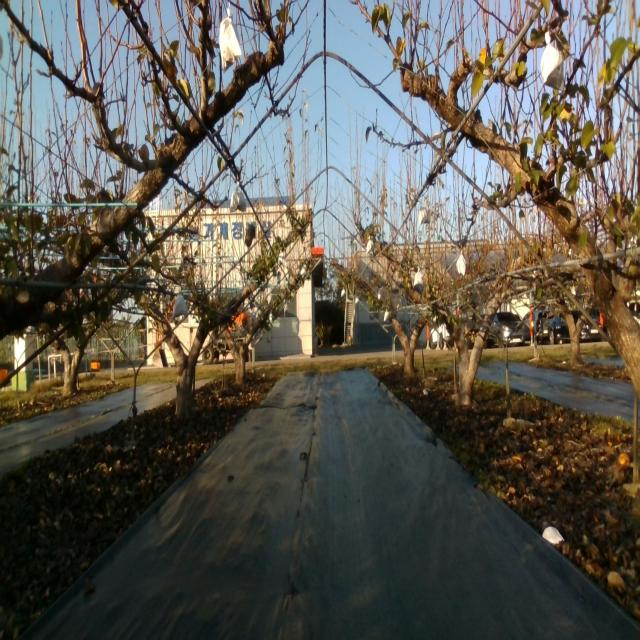pearbags: (540, 31, 565, 93), (219, 10, 243, 70), (230, 182, 247, 213), (172, 294, 188, 318), (418, 195, 430, 225)
